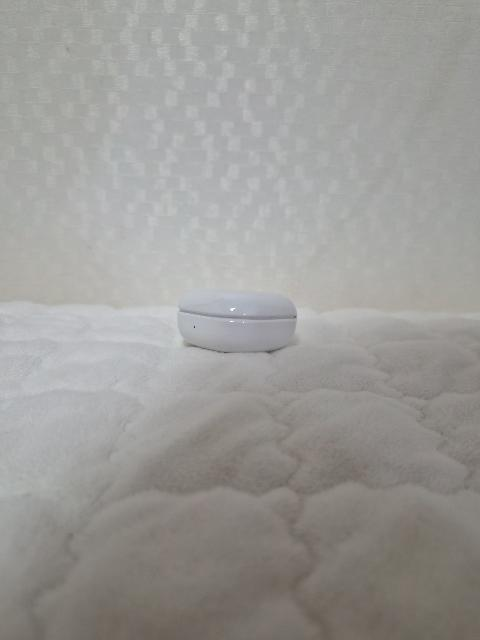earphone_case: (177, 289, 297, 353)
